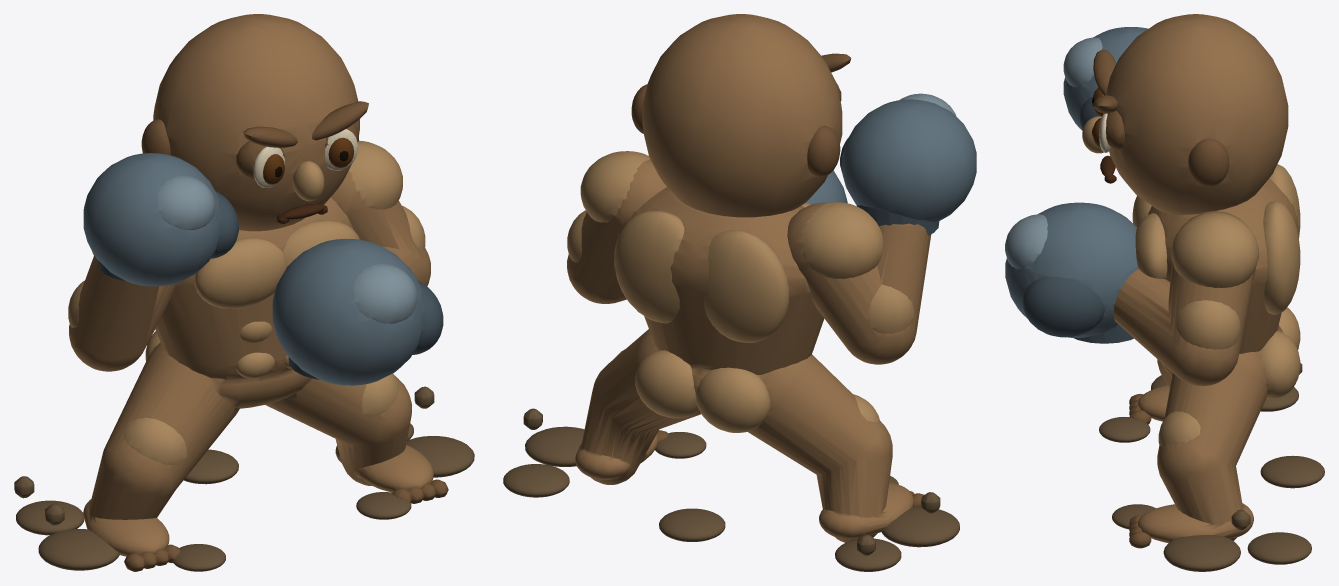
File: pebfist.glb
3 views of the same model, side by side, from view 1: azimuth 30°, elevation 25°; view 2: azimuth 150°, elevation 25°; view 3: azimuth 270°, elevation 25° (orthographic). The views are drawn at different scales.
Parts seen in each view (by area): view 1: creature; view 2: creature; view 3: creature.
Part boxes in pixels (bbox=[...]): creature: bbox=[14, 14, 474, 571]; creature: bbox=[503, 14, 976, 571]; creature: bbox=[1005, 14, 1324, 571].
Bounding box in the file's own units: 0.9076 × 1 × 0.6243.
